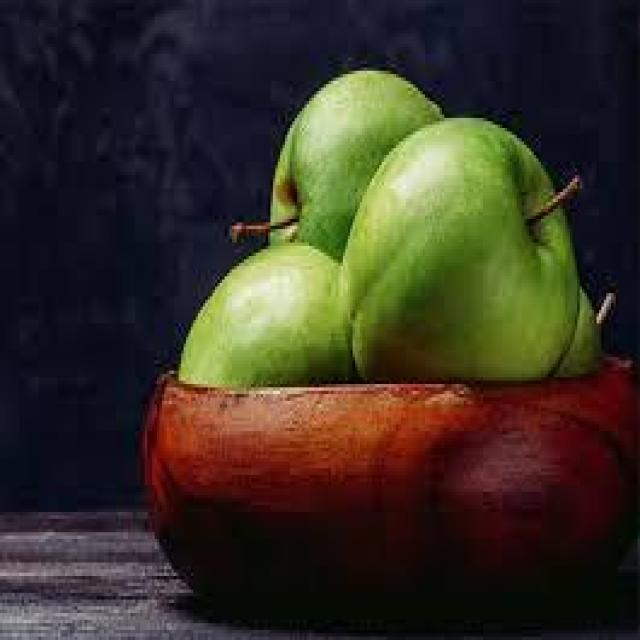maca: (140, 64, 638, 627), (140, 350, 638, 626), (338, 114, 587, 380), (266, 64, 442, 259)
